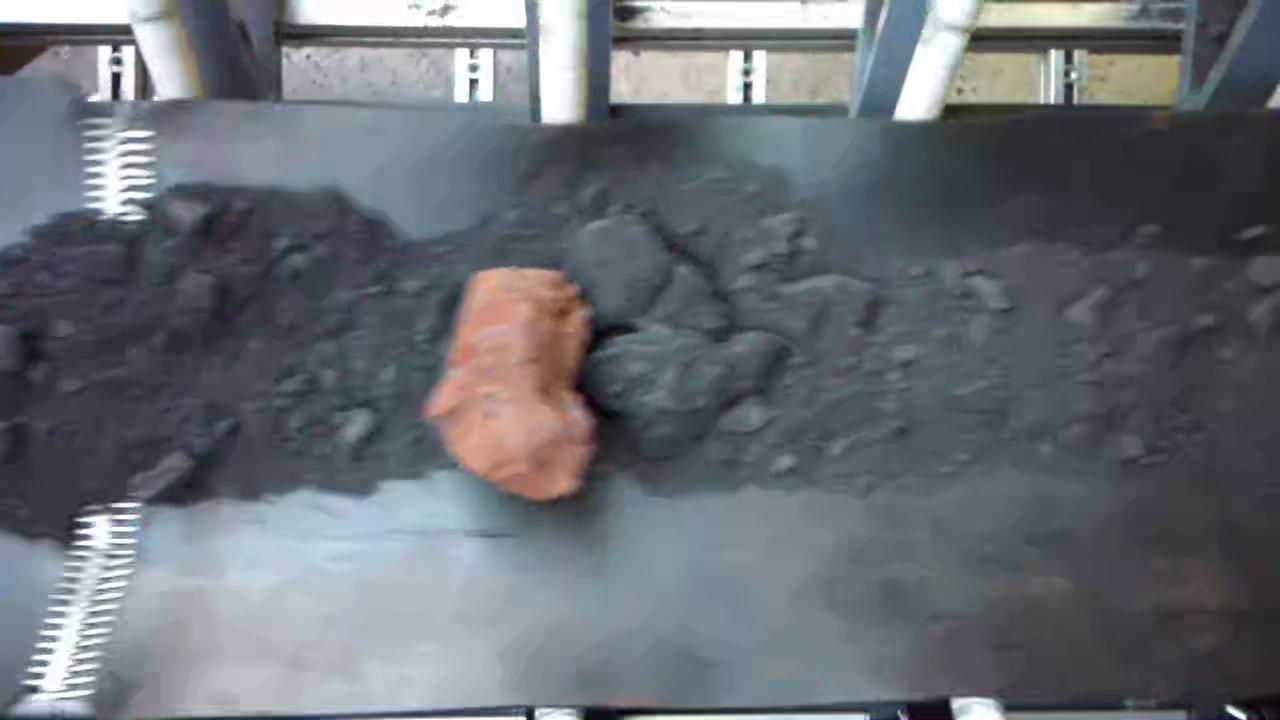conveyor: (1, 109, 1280, 695)
